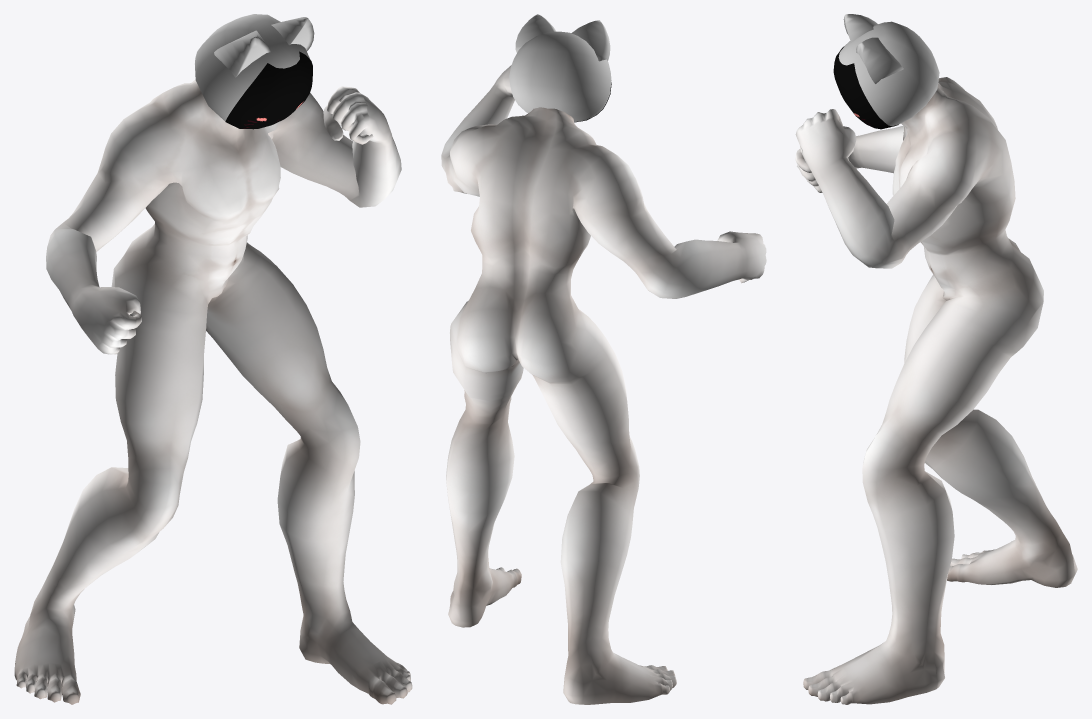
3 views of the same model, side by side, from view 1: azimuth 30°, elevation 25°; view 2: azimuth 150°, elevation 25°; view 3: azimuth 270°, elevation 25° (orthographic). The views are drawn at different scales.
Parts seen in each view (by area): view 1: Muscle_Body, Cat_Head, ______?001; view 2: Muscle_Body, Cat_Head; view 3: Muscle_Body, Cat_Head, ______?001.
Part boxes in pixels (x1=…): Muscle_Body: x1=14, y1=79, x2=412, y2=704; Cat_Head: x1=195, y1=14, x2=314, y2=120; ______?001: x1=225, y1=51, x2=312, y2=129; Muscle_Body: x1=441, y1=65, x2=766, y2=704; Cat_Head: x1=509, y1=14, x2=611, y2=122; Muscle_Body: x1=795, y1=77, x2=1077, y2=704; Cat_Head: x1=838, y1=14, x2=939, y2=126; ______?001: x1=833, y1=46, x2=898, y2=129.
Size of the model in its own units: 13.44 by 26.28 by 10.77.
